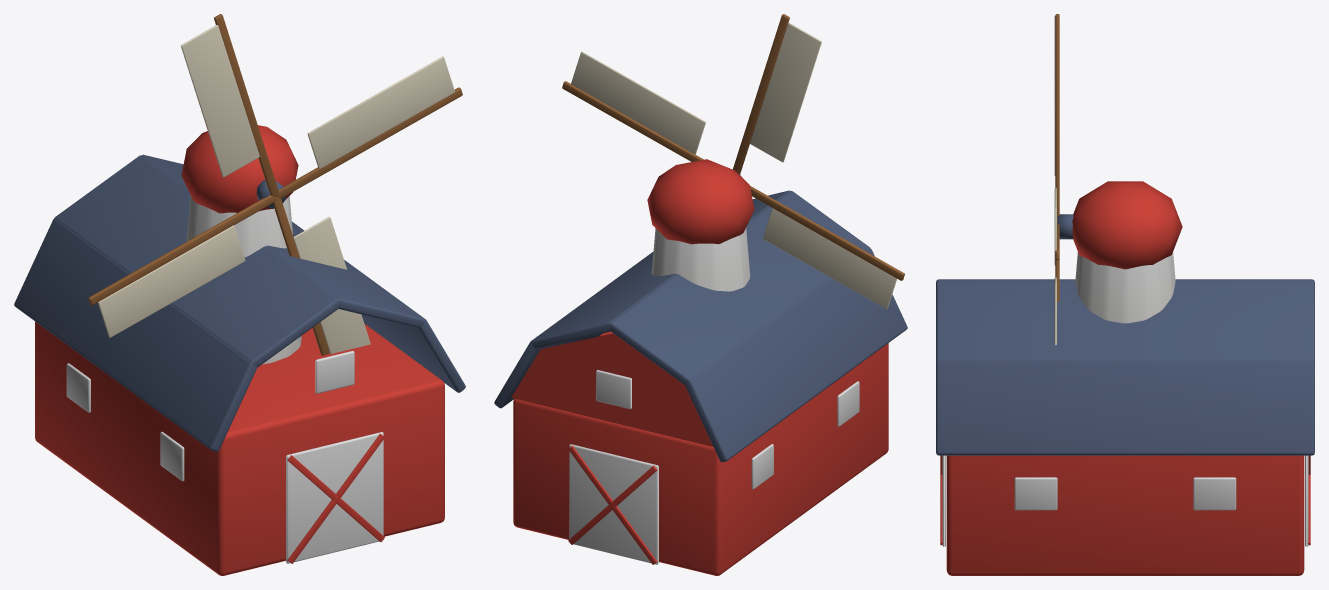
The model's file is derby.glb.
3 views of the same model, side by side, from view 1: azimuth 30°, elevation 25°; view 2: azimuth 150°, elevation 25°; view 3: azimuth 270°, elevation 25° (orthographic). The views are drawn at different scales.
Parts seen in each view (by area): view 1: barn, windmill; view 2: barn, windmill; view 3: barn, windmill.
Boxes of the visible parts, x1,y1,x2,y2 form: barn: (14, 154, 465, 575); windmill: (88, 14, 462, 364); barn: (494, 190, 907, 575); windmill: (562, 14, 904, 309); barn: (936, 279, 1314, 575); windmill: (1054, 14, 1182, 345).
Size of the model in its own units: 11.52 by 15.03 by 10.6.
